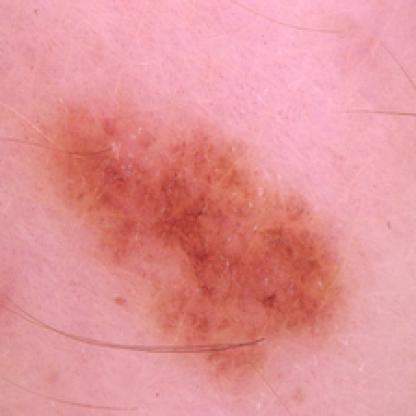benign: (37, 100, 379, 386)
